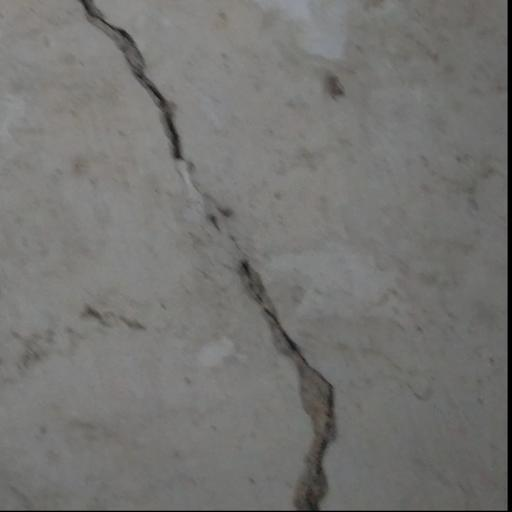major_crack: (66, 0, 352, 512)
